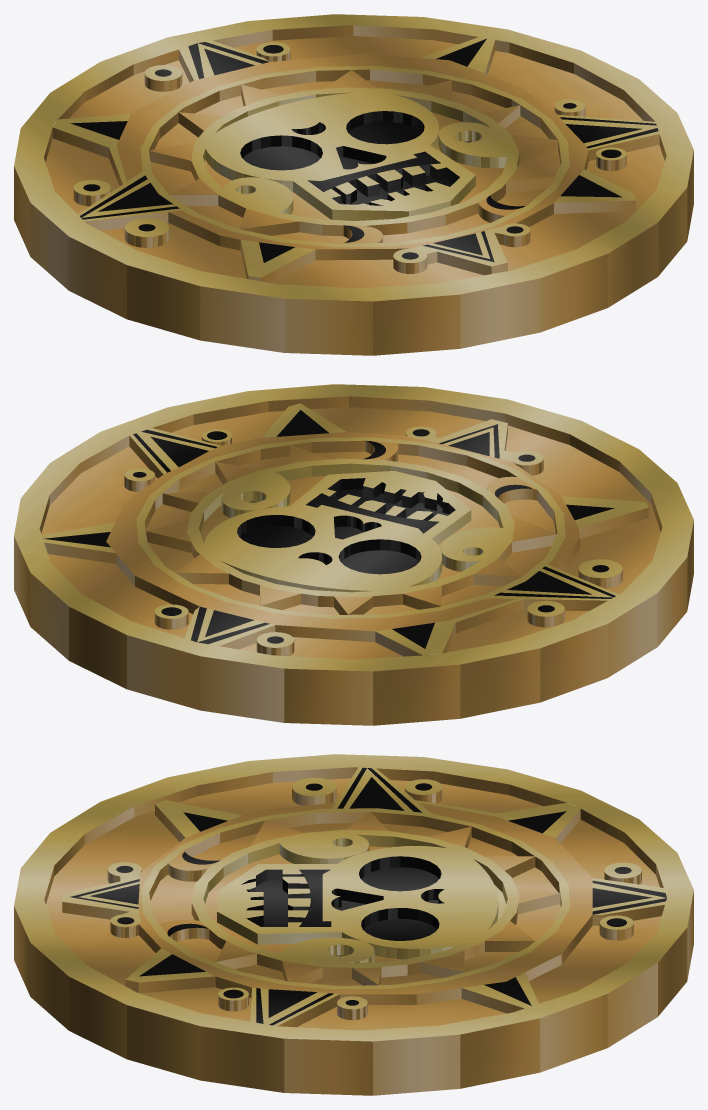
The model's file is ninth_piece_of_eight.dae.
The picture shows the model from 3 angles, top to bottom: view 1: azimuth 30°, elevation 25°; view 2: azimuth 150°, elevation 25°; view 3: azimuth 270°, elevation 25°; orthographic projection.
Parts seen in each view (by area): view 1: SketchUp (×28); view 2: SketchUp (×27); view 3: SketchUp (×27).
Boxes of the visible parts, left/top/right/bottom form: SketchUp (×28): left=14, top=14, right=693, bottom=355; SketchUp (×27): left=14, top=384, right=693, bottom=725; SketchUp (×27): left=14, top=754, right=693, bottom=1095.
Bounding box in the file's own units: 99.35 × 99.35 × 8.75.
